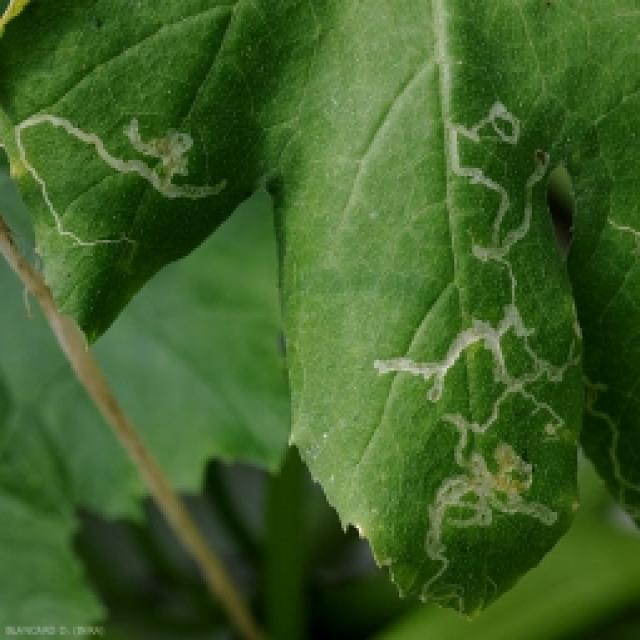Serpentine leafminer: (347, 92, 584, 623), (0, 108, 249, 290)
